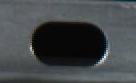holes: (30, 19, 109, 67)
